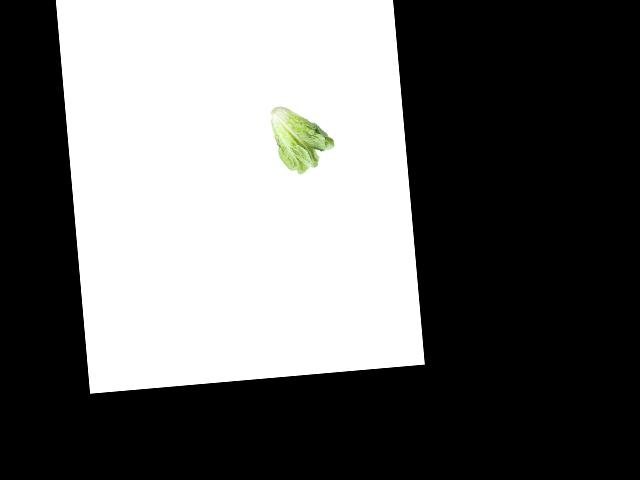lettuce: (266, 104, 340, 176)
